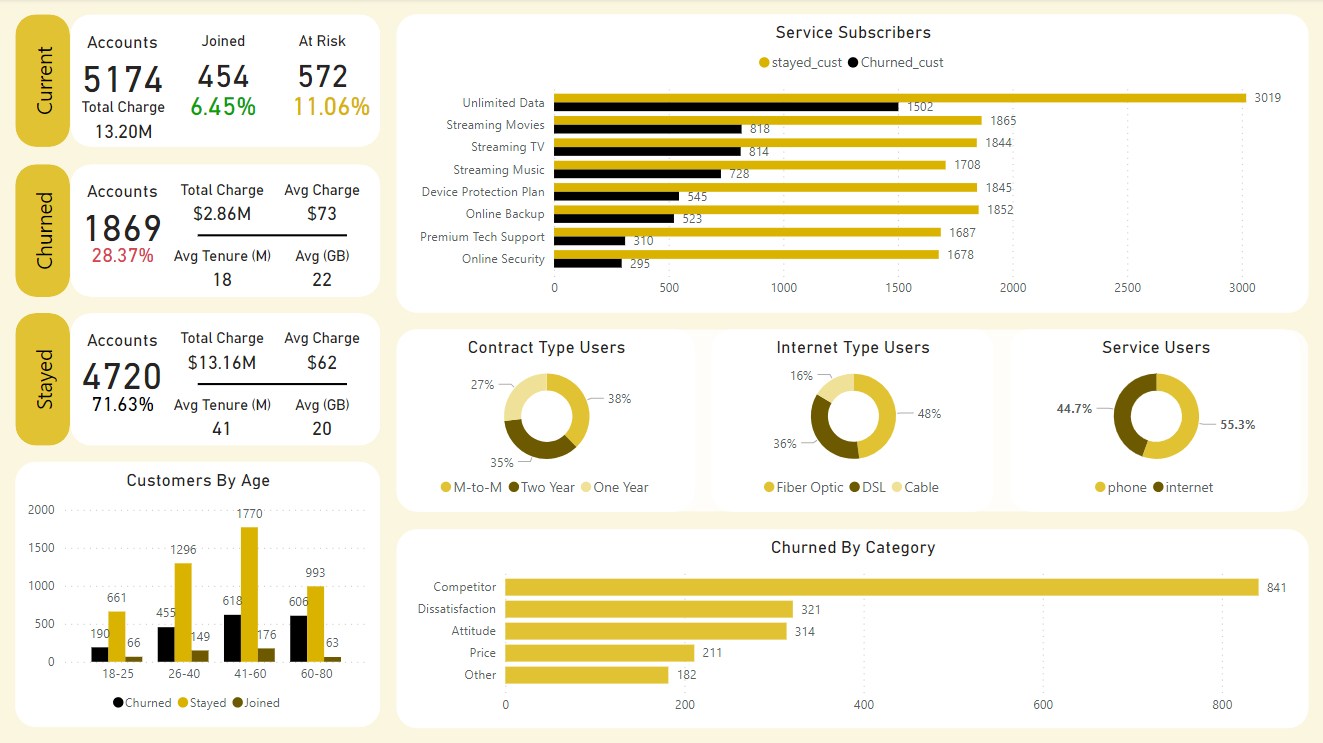

This screenshot's page, from the dashboard's own definition file:
{"tool":"powerbi","page":{"name":"Page 1","canvas":[1280,720],"ordinal":0},"visuals":[{"type":"shape","box":[16,16,52.8,128],"z":0},{"type":"shape","box":[16,160,52.8,128],"z":0,"group":"g1"},{"type":"shape","box":[16,304,52.8,128],"z":0,"group":"g2"},{"type":"clusteredBarChart","title":"Service Subscribers","fields":{"Category":["services.service_name"],"Y":["churn cat.c2","internet type.c1"]},"box":[384,16,880,288],"z":1000},{"type":"shape","title":"total current customer","box":[68.8,160,299.2,128],"z":1000,"group":"g1"},{"type":"shape","title":"total current customer","box":[68.8,304,299.2,128],"z":1000,"group":"g2"},{"type":"shape","title":"total current customer","box":[68.8,16,299.2,128],"z":2000},{"type":"card","title":"Total Charge","fields":{"Values":["churn cat.totalcharge churned"]},"box":[160,176,112,48],"z":2000,"group":"g1"},{"type":"card","fields":{"Values":["churn cat.stayed rate"]},"box":[80,368,80,48],"z":2000,"group":"g2"},{"type":"shape","box":[384,320,880,176],"z":2500},{"type":"card","title":"Avg Charge","fields":{"Values":["churn cat.total charge churned"]},"box":[256,176,112,48],"z":3000,"group":"g1"},{"type":"card","title":"Accounts","fields":{"Values":["churn cat.total stayed cust"]},"box":[64,320,110,65],"z":3000,"group":"g2"},{"type":"clusteredBarChart","title":"Churned By Category","fields":{"Category":["churn cat.Churn Category","churn cat.Churn Reason"],"Y":["churn cat.total churned cust"]},"box":[384,512,880,192],"z":3000},{"type":"card","title":"Accounts","fields":{"Values":["churn cat.total current customers"]},"box":[64,32,110,65],"z":4000},{"type":"shape","box":[192,192,144,72],"z":4000,"group":"g1"},{"type":"card","title":"Total Charge","fields":{"Values":["churn cat.totalcharge stayed"]},"box":[160,320,112,48],"z":4000,"group":"g2"},{"type":"card","fields":{"Values":["churn cat.churned rate"]},"box":[80,224,80,48],"z":5000,"group":"g1"},{"type":"card","title":"Avg Charge","fields":{"Values":["churn cat.monthly charge stayed"]},"box":[256,320,112,48],"z":5000,"group":"g2"},{"type":"clusteredColumnChart","title":"Customers By Age","fields":{"Category":["customer.age range"],"Y":["churn cat.total churned cust","churn cat.total stayed cust","churn cat.new customers"]},"box":[16,448,352,256],"z":5000},{"type":"card","title":"Avg (GB)","fields":{"Values":["churn cat.monthly churned gb"]},"box":[256,240,112,48],"z":6000,"group":"g1"},{"type":"donutChart","title":"Service Users","fields":{"Y":["users.users count"],"Category":["users.service users"]},"box":[976,320,280,176],"z":6000},{"type":"shape","box":[192,336,144,72],"z":6000,"group":"g2"},{"type":"card","title":"Total Charge","fields":{"Values":["churn cat.total cgarge"]},"box":[64,96,112,48],"z":7000},{"type":"card","title":"Avg Tenure (M)","fields":{"Values":["churn cat.avg month churned"]},"box":[160,240,112,48],"z":7000,"group":"g1"},{"type":"card","title":"Avg (GB)","fields":{"Values":["churn cat.monthly gb stayed"]},"box":[256,384,112,48],"z":7000,"group":"g2"},{"type":"card","title":"Joined","fields":{"Values":["churn cat.new customers"]},"box":[160,32,112,64],"z":8000},{"type":"card","title":"Accounts","fields":{"Values":["churn cat.total churned cust"]},"box":[64,176,110,65],"z":8000,"group":"g1"},{"type":"card","title":"Avg Tenure (M)","fields":{"Values":["churn cat.avg month stayed"]},"box":[160,384,112,48],"z":8000,"group":"g2"},{"type":"card","title":"At Risk","fields":{"Values":["churn cat.at risk customers"]},"box":[256,32,112,64],"z":9000},{"type":"card","fields":{"Values":["churn cat.joined rate"]},"box":[176,80,80,48],"z":10000},{"type":"card","fields":{"Values":["churn cat.at risk rate"]},"box":[272,80,96,48],"z":11000},{"type":"group","id":"g1","title":"Group 1","box":[16,160,352,128],"z":12000},{"type":"group","id":"g2","title":"Group 2","box":[16,304,352,128],"z":13000},{"type":"donutChart","title":"Contract Type Users","fields":{"Category":["contract table.contract type"],"Y":["churn cat.contract measure"]},"box":[384,320,288,176],"z":14000},{"type":"donutChart","title":"Internet Type Users","fields":{"Category":["internet type.Internet Type"],"Y":["churn cat.int users"]},"box":[688,320,272,176],"z":15000}]}

Visuals, with their boxes in screenshot pixels (x1, y1, x2, y2), scaled from the page's 1280x720 canvas onto the 1323x743 screenshot:
shape: [x1=17, y1=17, x2=71, y2=149]
shape: [x1=17, y1=165, x2=71, y2=297]
shape: [x1=17, y1=314, x2=71, y2=446]
"Service Subscribers" clusteredBarChart: [x1=397, y1=17, x2=1306, y2=314]
"total current customer" shape: [x1=71, y1=165, x2=380, y2=297]
"total current customer" shape: [x1=71, y1=314, x2=380, y2=446]
"total current customer" shape: [x1=71, y1=17, x2=380, y2=149]
"Total Charge" card: [x1=165, y1=182, x2=281, y2=231]
card - churn cat.stayed rate: [x1=83, y1=380, x2=165, y2=429]
shape: [x1=397, y1=330, x2=1306, y2=512]
"Avg Charge" card: [x1=265, y1=182, x2=380, y2=231]
"Accounts" card: [x1=66, y1=330, x2=180, y2=397]
"Churned By Category" clusteredBarChart: [x1=397, y1=528, x2=1306, y2=726]
"Accounts" card: [x1=66, y1=33, x2=180, y2=100]
shape: [x1=198, y1=198, x2=347, y2=272]
"Total Charge" card: [x1=165, y1=330, x2=281, y2=380]
card - churn cat.churned rate: [x1=83, y1=231, x2=165, y2=281]
"Avg Charge" card: [x1=265, y1=330, x2=380, y2=380]
"Customers By Age" clusteredColumnChart: [x1=17, y1=462, x2=380, y2=726]
"Avg (GB)" card: [x1=265, y1=248, x2=380, y2=297]
"Service Users" donutChart: [x1=1009, y1=330, x2=1298, y2=512]
shape: [x1=198, y1=347, x2=347, y2=421]
"Total Charge" card: [x1=66, y1=99, x2=182, y2=149]
"Avg Tenure (M)" card: [x1=165, y1=248, x2=281, y2=297]
"Avg (GB)" card: [x1=265, y1=396, x2=380, y2=446]
"Joined" card: [x1=165, y1=33, x2=281, y2=99]
"Accounts" card: [x1=66, y1=182, x2=180, y2=249]
"Avg Tenure (M)" card: [x1=165, y1=396, x2=281, y2=446]
"At Risk" card: [x1=265, y1=33, x2=380, y2=99]
card - churn cat.joined rate: [x1=182, y1=83, x2=265, y2=132]
card - churn cat.at risk rate: [x1=281, y1=83, x2=380, y2=132]
"Group 1" group: [x1=17, y1=165, x2=380, y2=297]
"Group 2" group: [x1=17, y1=314, x2=380, y2=446]
"Contract Type Users" donutChart: [x1=397, y1=330, x2=695, y2=512]
"Internet Type Users" donutChart: [x1=711, y1=330, x2=992, y2=512]
